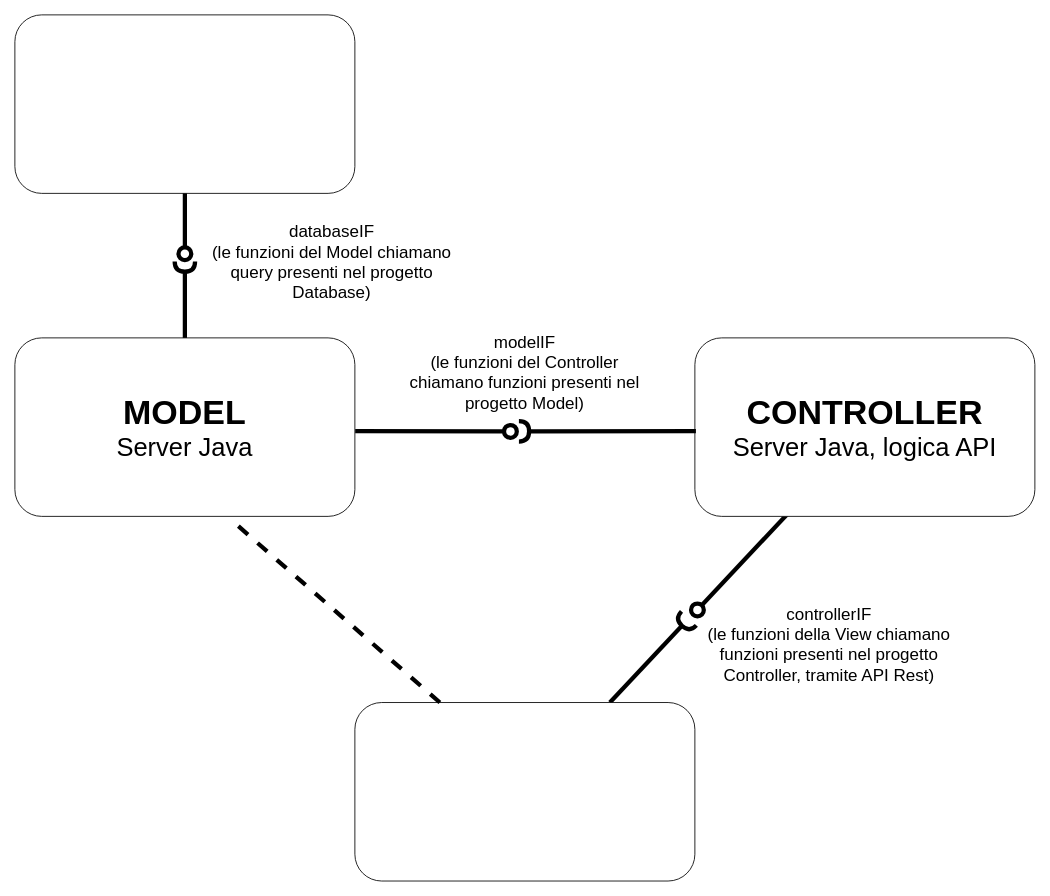
Image size: 1050x896. Some labels were removed from this diagram. The shapes that lost their labels are listed below. From the top down, each one's centre as x and y in pixels, then its label:
At point 184,103: "DATABASE SQL".
At point 524,791: "VIEW Applicazione client, Flutter".
